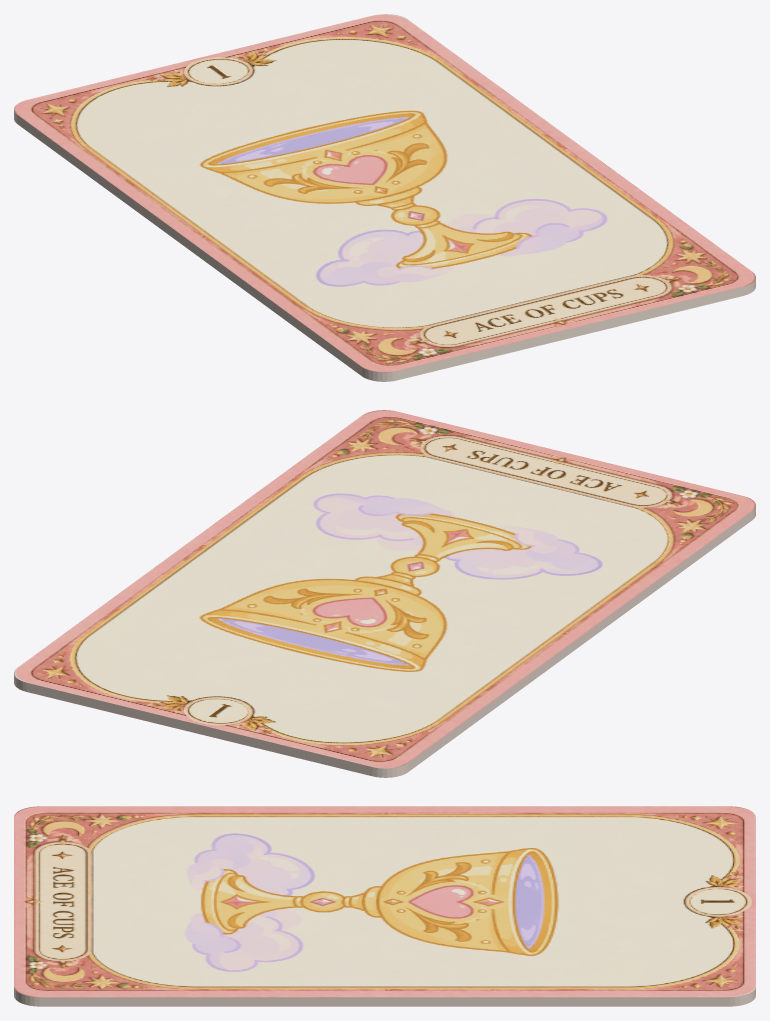
The model's file is ace_of_cups.fbx.
3 views of the same model, one above another, from view 1: azimuth 30°, elevation 25°; view 2: azimuth 150°, elevation 25°; view 3: azimuth 270°, elevation 25° (orthographic).
Parts seen in each view (by area): view 1: ace_of_cups; view 2: ace_of_cups; view 3: ace_of_cups.
Boxes of the visible parts, x1,y1,x2,y2 form: ace_of_cups: (14,14,755,381); ace_of_cups: (14,410,755,777); ace_of_cups: (14,806,755,1006).
Bounding box in the file's own units: 7 × 0.16 × 11.5.
Materials: 3 (2 with a texture image).
